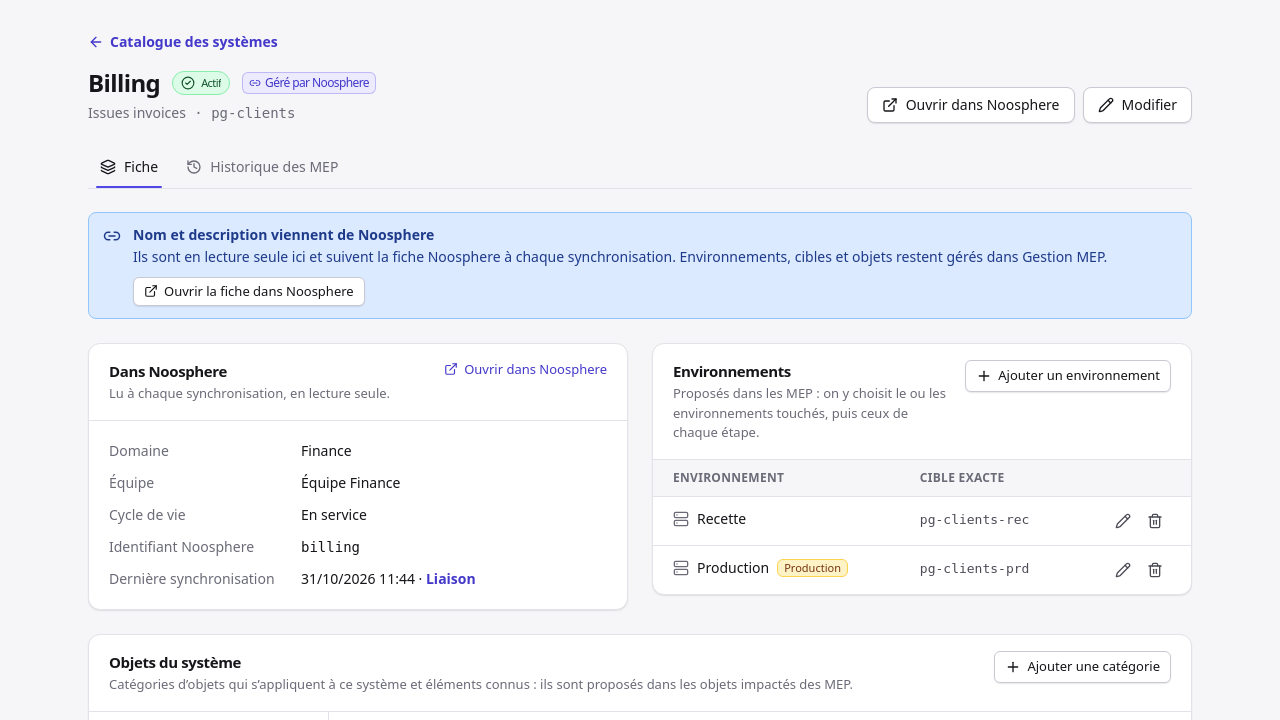
Test case: Catalogue des systèmes : systèmes gérés par Noosphere › la fiche montre la source et verrouille nom et description
Check: the text "Géré par Noosphere" is shown, box [242,72,376,94]
Check: the text "Nom et description viennent de Noosphere" is shown, box [133,225,434,244]
Click the button "Modifier" at (1137, 105), box [1082,87,1192,123]
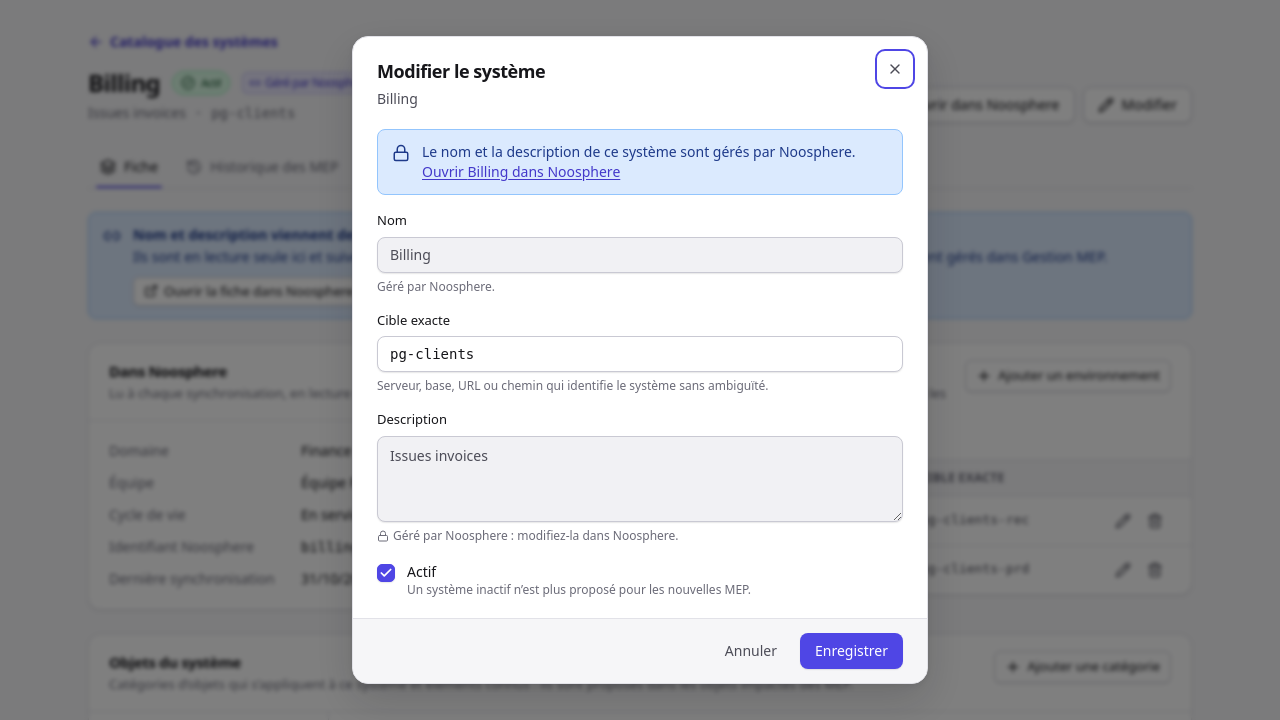
Check: the link "Ouvrir Billing dans Noosphere" is shown, box [422,162,620,182]
